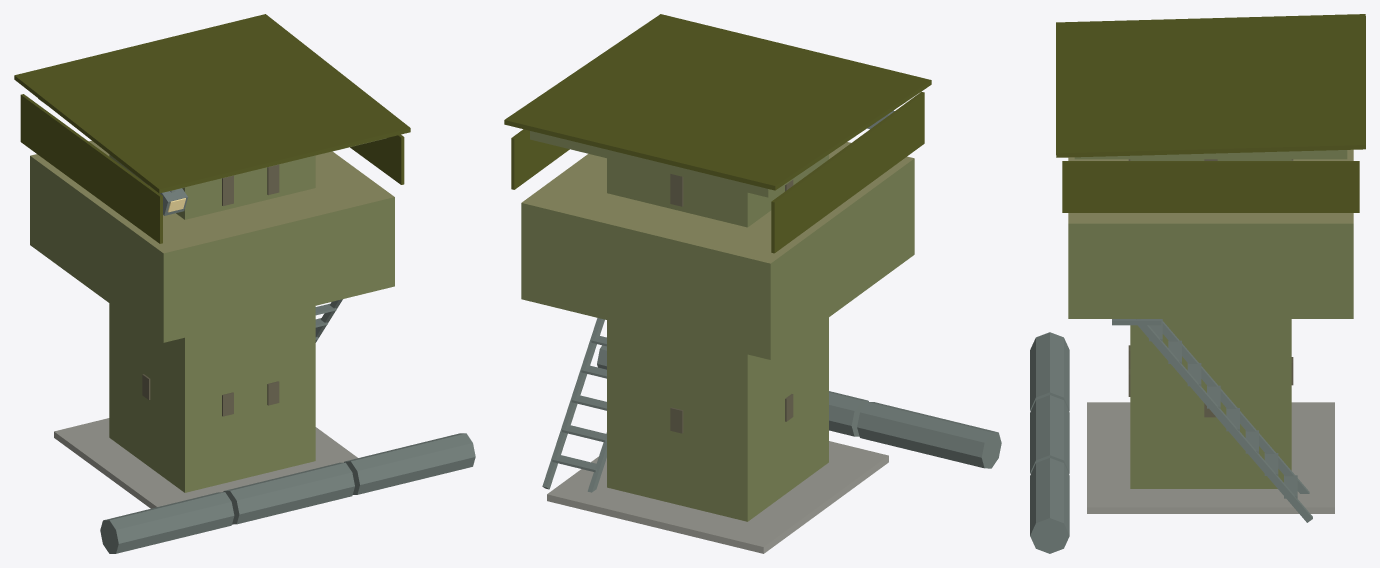
File: SM_TorretaVigia_v4_LOD0.fbx
3 renders of one model, left to right at view 1: azimuth 30°, elevation 25°; view 2: azimuth 150°, elevation 25°; view 3: azimuth 270°, elevation 25°, orthographic. The views are drawn at different scales.
Visible parts, largest first — view 1: SM_torreta_vigia_v4_LOD0; view 2: SM_torreta_vigia_v4_LOD0; view 3: SM_torreta_vigia_v4_LOD0.
Boxes of the visible parts, box(x1,y1,x2,y2) form: SM_torreta_vigia_v4_LOD0: box(14, 14, 475, 553); SM_torreta_vigia_v4_LOD0: box(504, 14, 1001, 553); SM_torreta_vigia_v4_LOD0: box(1030, 14, 1365, 553).
Bounding box in the file's own units: 7.1 × 6.83 × 5.42.
